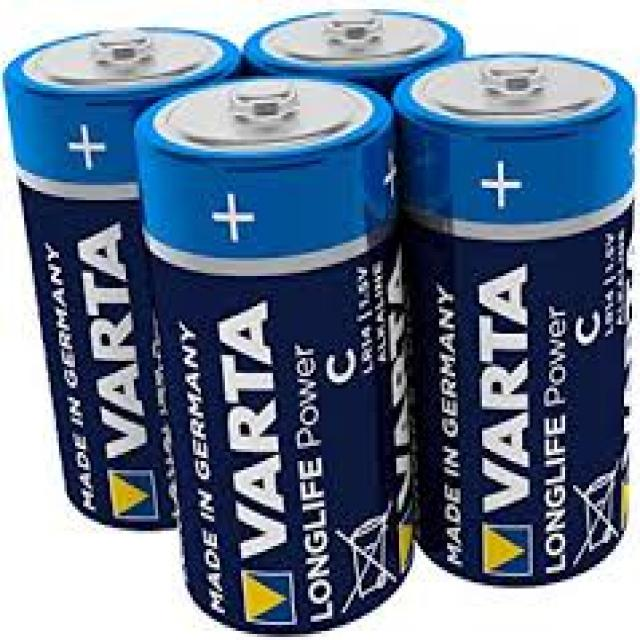non-organic waste: (138, 76, 416, 636), (391, 51, 640, 582), (7, 29, 241, 531)
